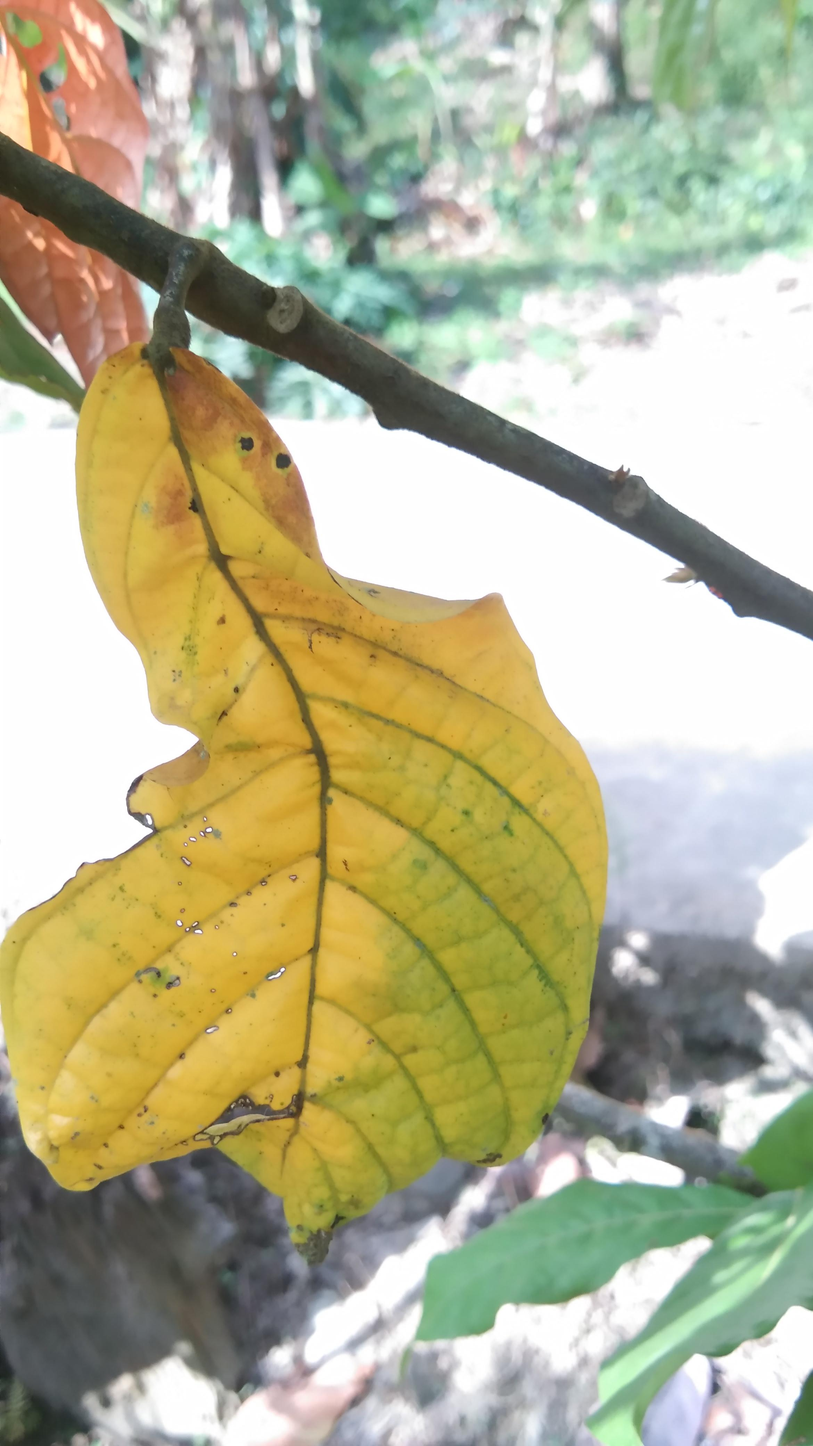deficiencia_potasio: (0, 328, 618, 1247)
